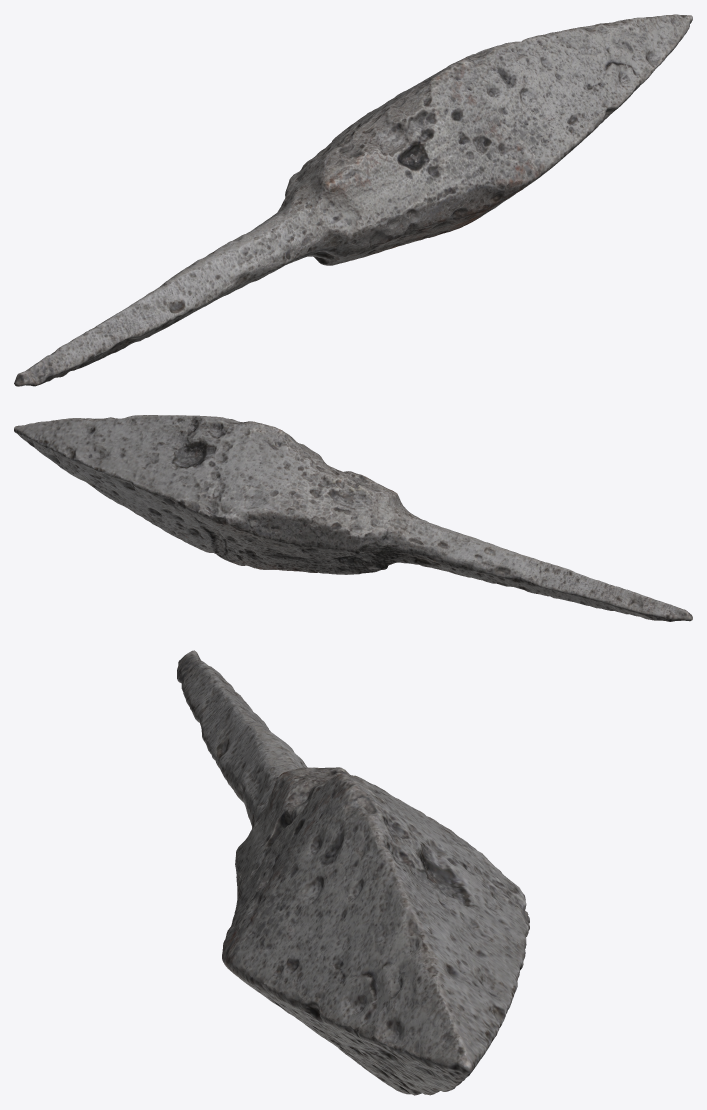
Rendered from Strila2.glb.
3 renders of one model, top to bottom at view 1: azimuth 30°, elevation 25°; view 2: azimuth 150°, elevation 25°; view 3: azimuth 270°, elevation 25°, orthographic. The views are drawn at different scales.
Parts seen in each view (by area): view 1: Strila3.001; view 2: Strila3.001; view 3: Strila3.001.
Boxes of the visible parts, x1,y1,x2,y2 form: Strila3.001: (14,14,692,386); Strila3.001: (14,415,692,621); Strila3.001: (177,650,529,1095).
Bounding box in the file's own units: 0.24 × 0.0525 × 0.0603.
Materials: 1 (1 with a texture image).
